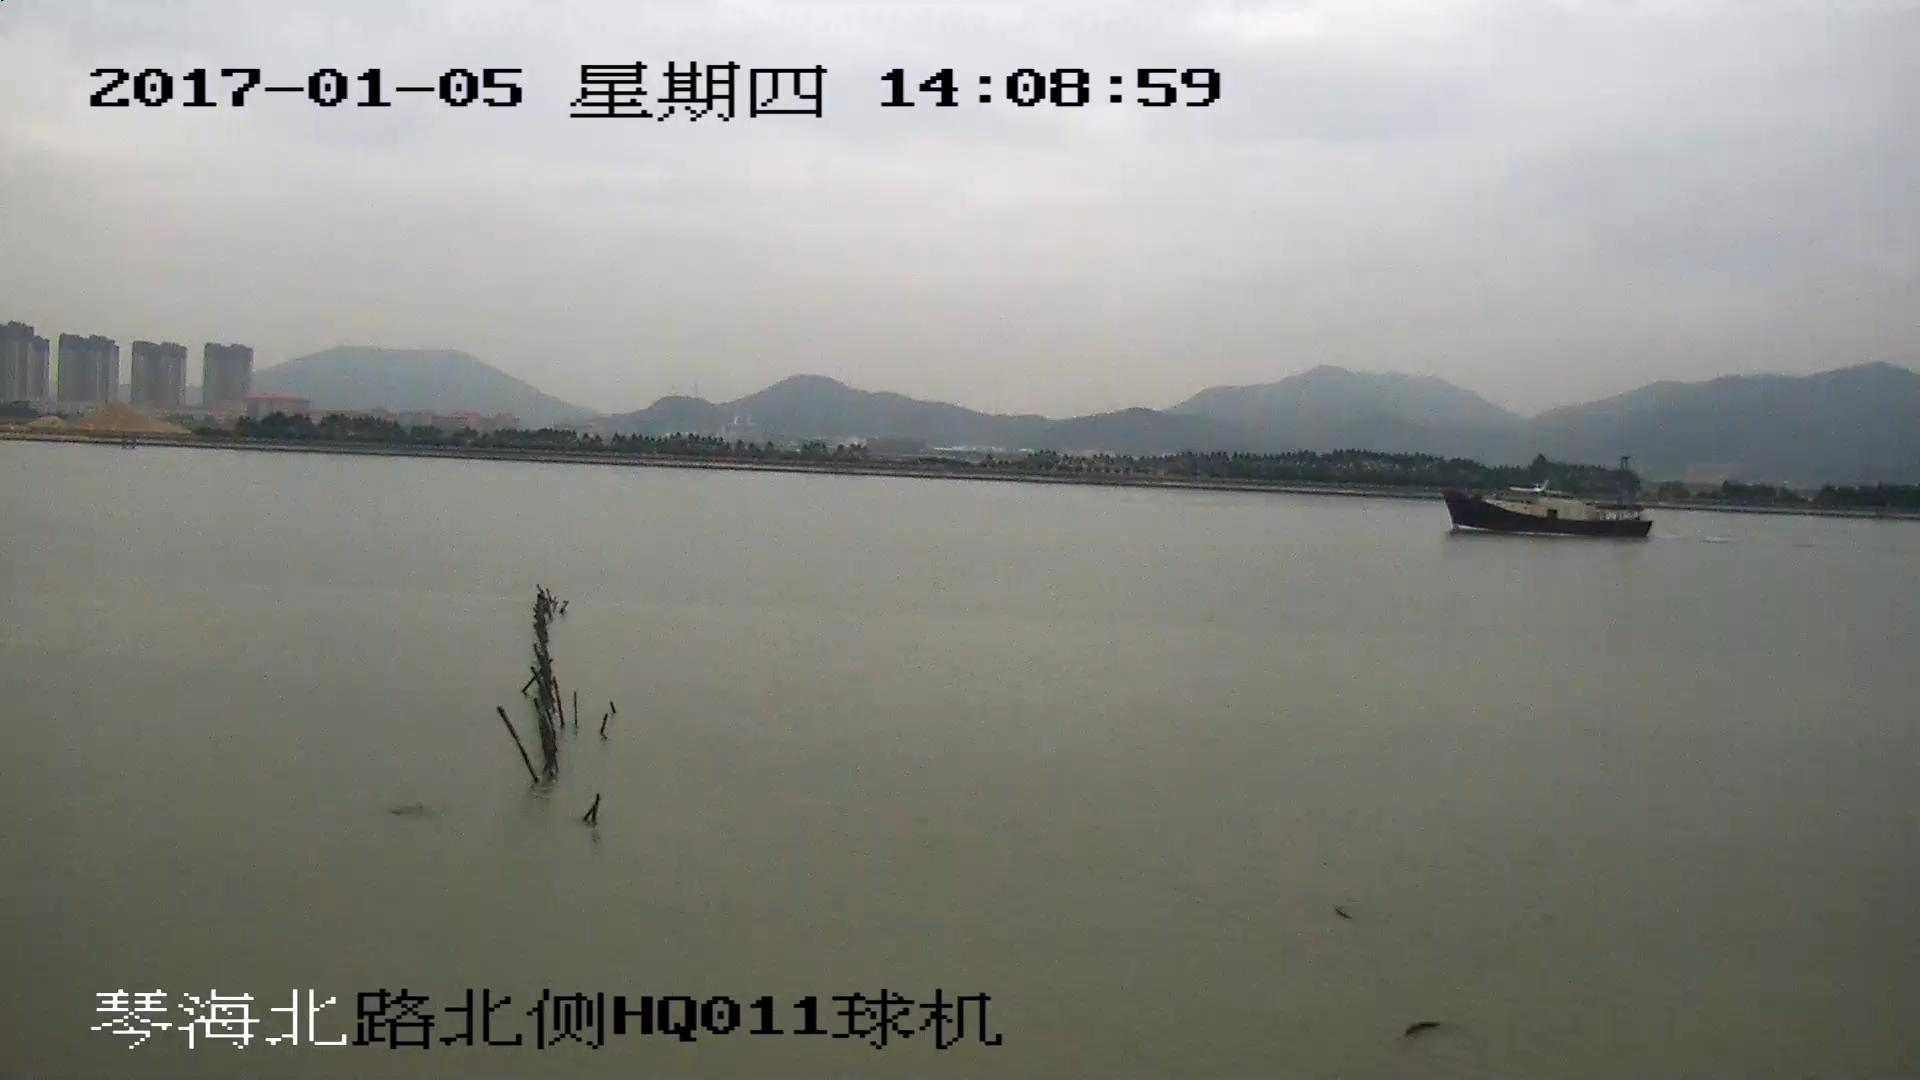fishing boat: (1438, 450, 1653, 537)
